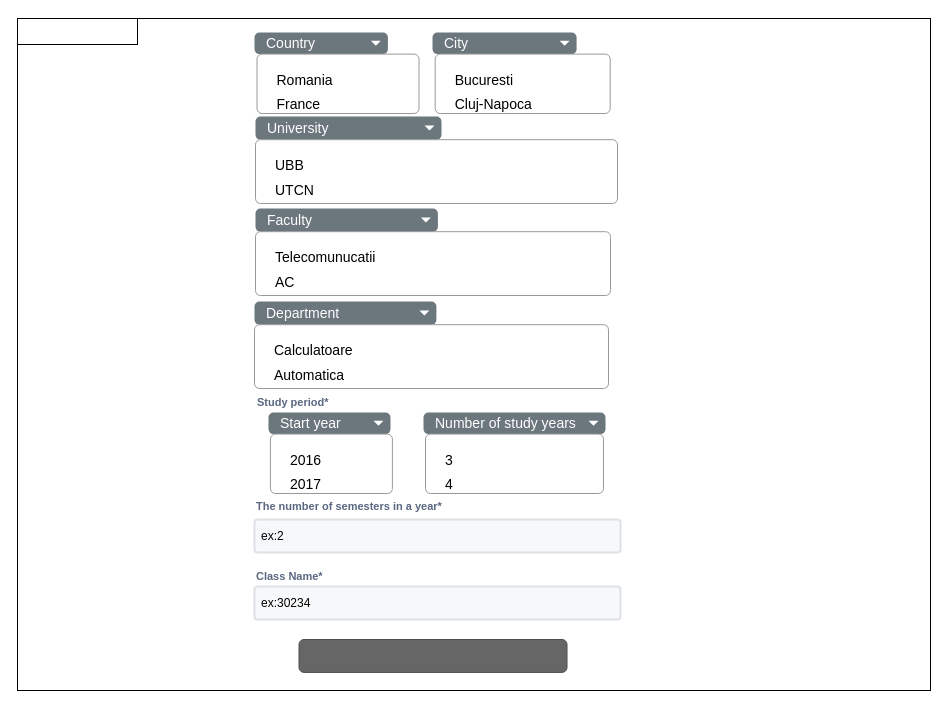
Some shapes in this 948 by 708 pixel diagram are drawn without their labels. The box of each missing label's shape, as (x1, y1, x2, y2) in pixels:
Create a class: (16, 18, 138, 44)
Create class: (298, 638, 567, 672)
